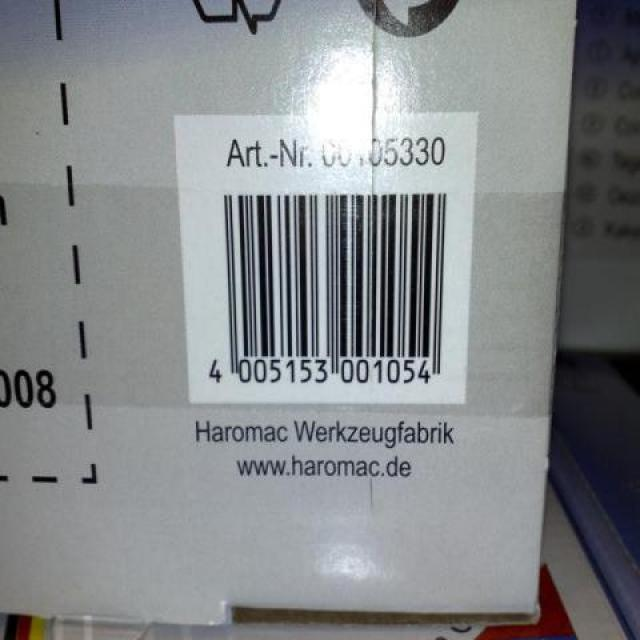Barcode: (173, 115, 479, 402)
